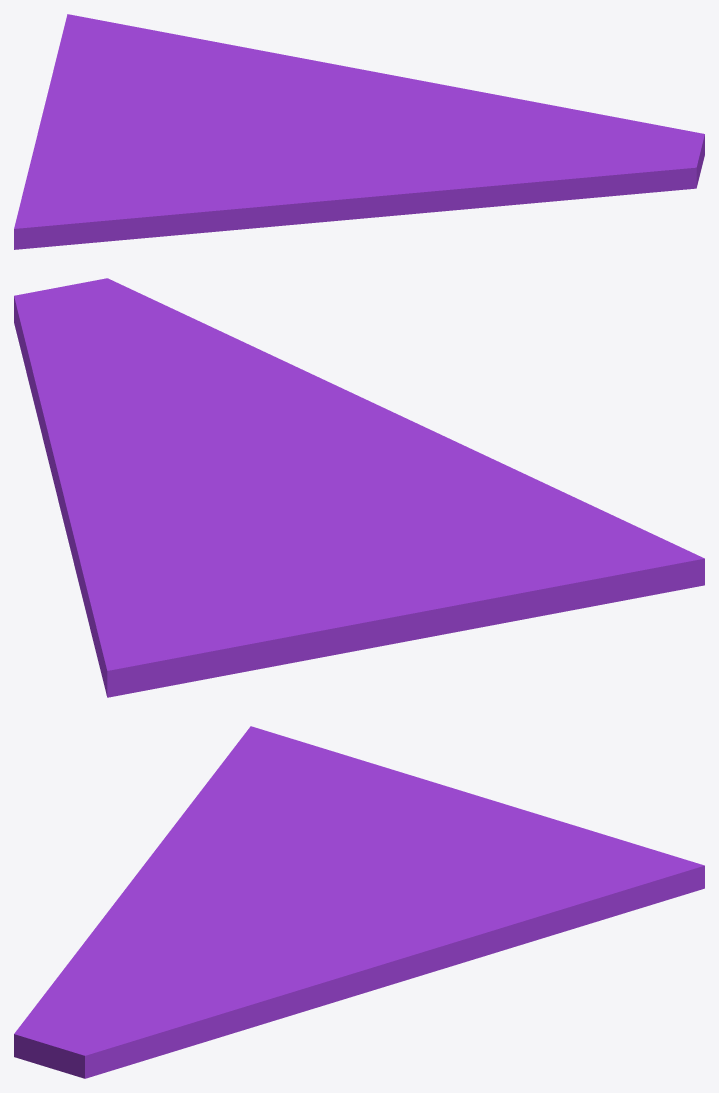
The model's file is StairsStep_51.fbx.
3 renders of one model, top to bottom at view 1: azimuth 30°, elevation 25°; view 2: azimuth 150°, elevation 25°; view 3: azimuth 270°, elevation 25°, orthographic. The views are drawn at different scales.
Visible parts, largest first — view 1: StairsStep_51; view 2: StairsStep_51; view 3: StairsStep_51.
Part boxes in pixels (box(x1,y1,x2,y2)): StairsStep_51: box(14, 14, 704, 249); StairsStep_51: box(14, 278, 704, 697); StairsStep_51: box(14, 726, 704, 1078).
Size of the model in its own units: 552 by 17.94 by 488.
